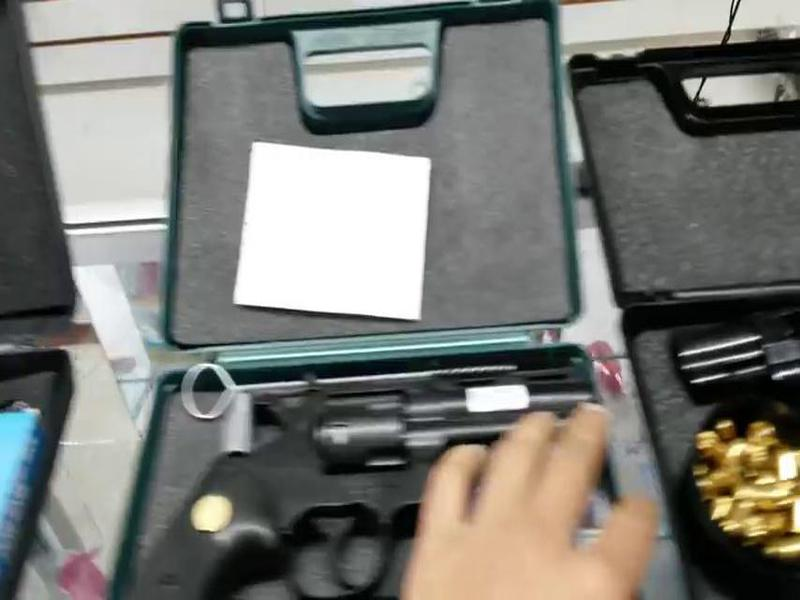Revolver: (155, 349, 602, 600)
